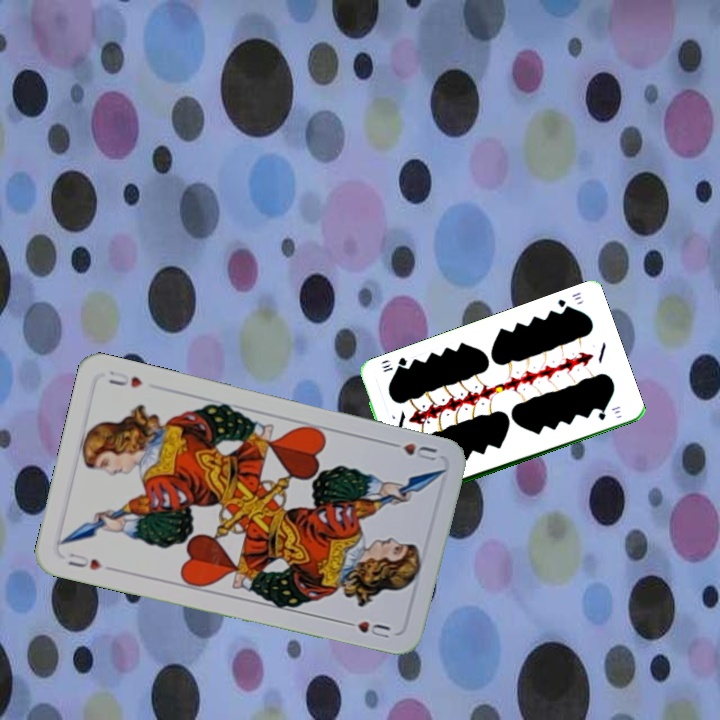G10: (553, 288, 583, 314)
HU: (383, 438, 440, 464), (64, 548, 105, 573)
